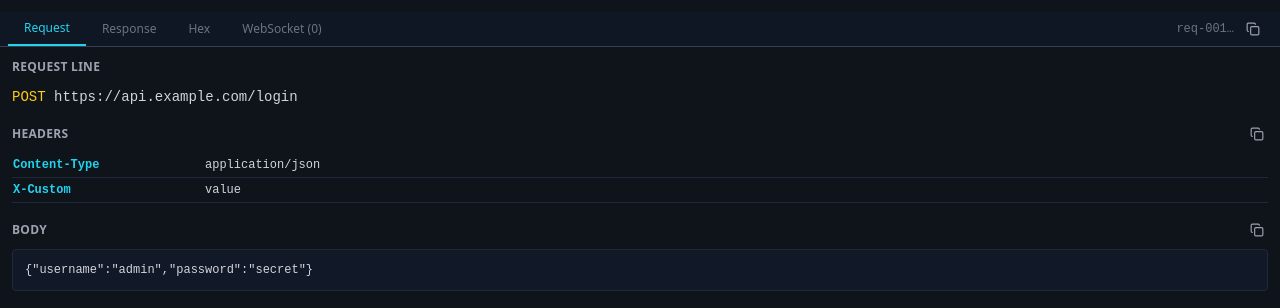
Test case: RequestDetail › switches to hex tab
Step 1. Click the button "Hex" → (199, 29), box left=172, top=13, right=226, bottom=45
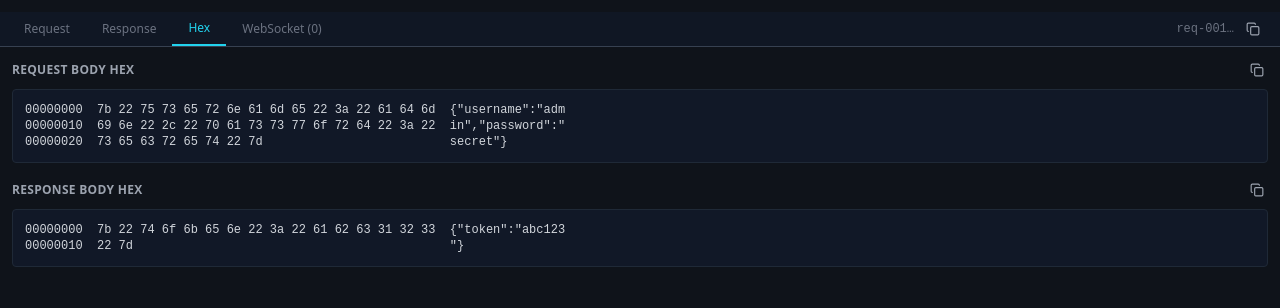
expect the heading "Request Body Hex" is shown: met, box left=12, top=62, right=134, bottom=78
